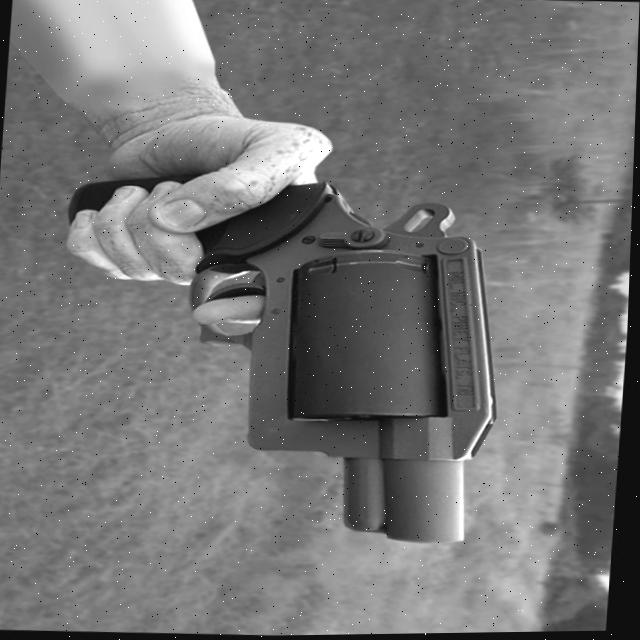pistol: (40, 164, 522, 552)
